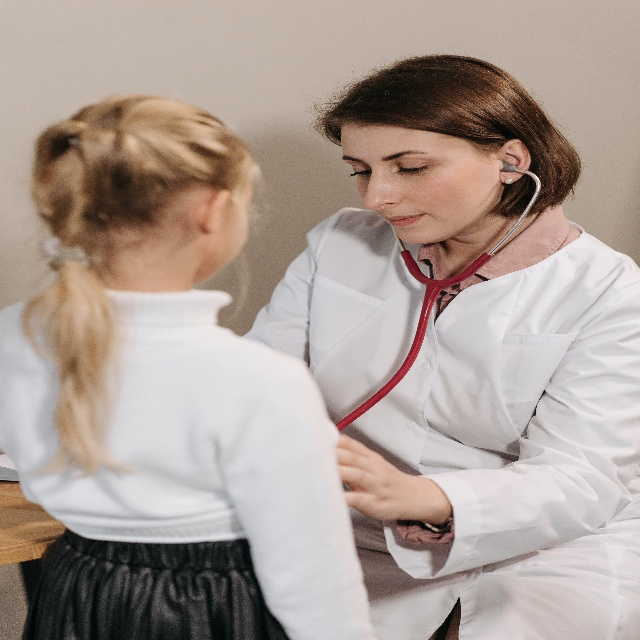Sin_guantes: (335, 434, 426, 530)
